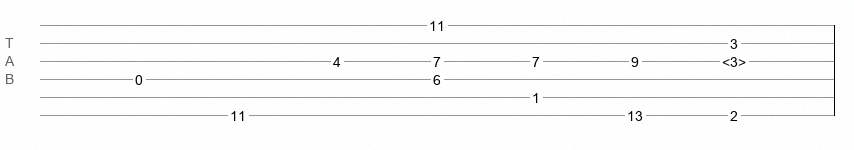0: (135, 72, 143, 82)
1: (532, 90, 540, 100)
11: (230, 108, 246, 118), (429, 18, 445, 28)
13: (627, 108, 643, 118)
2: (730, 108, 738, 118)
3: (730, 36, 738, 46)
4: (333, 54, 341, 64)
6: (433, 72, 441, 82)
7: (433, 54, 441, 64), (532, 54, 540, 64)
9: (631, 54, 639, 64)
harmonic: (722, 54, 746, 64)
